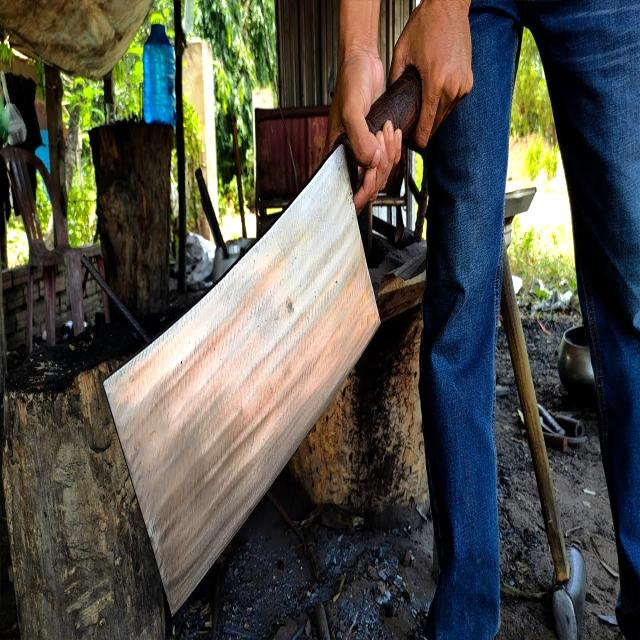cleaver: (99, 0, 475, 612)
